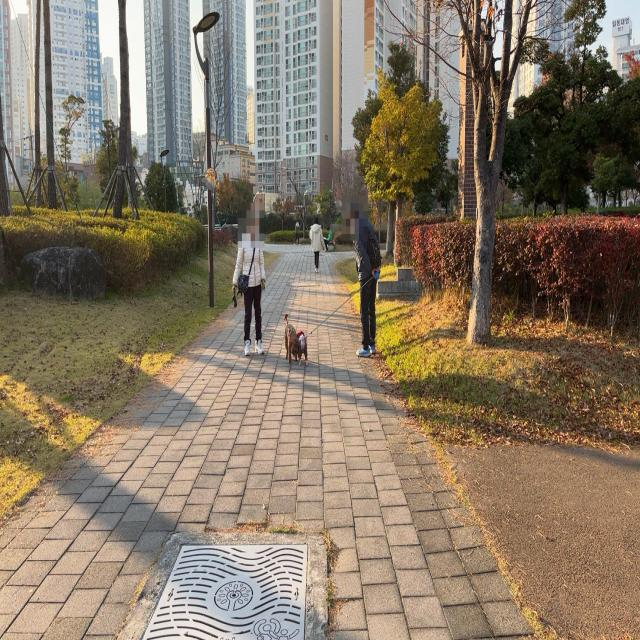Leashed_Dog: (294, 280, 368, 368), (255, 278, 300, 364)
